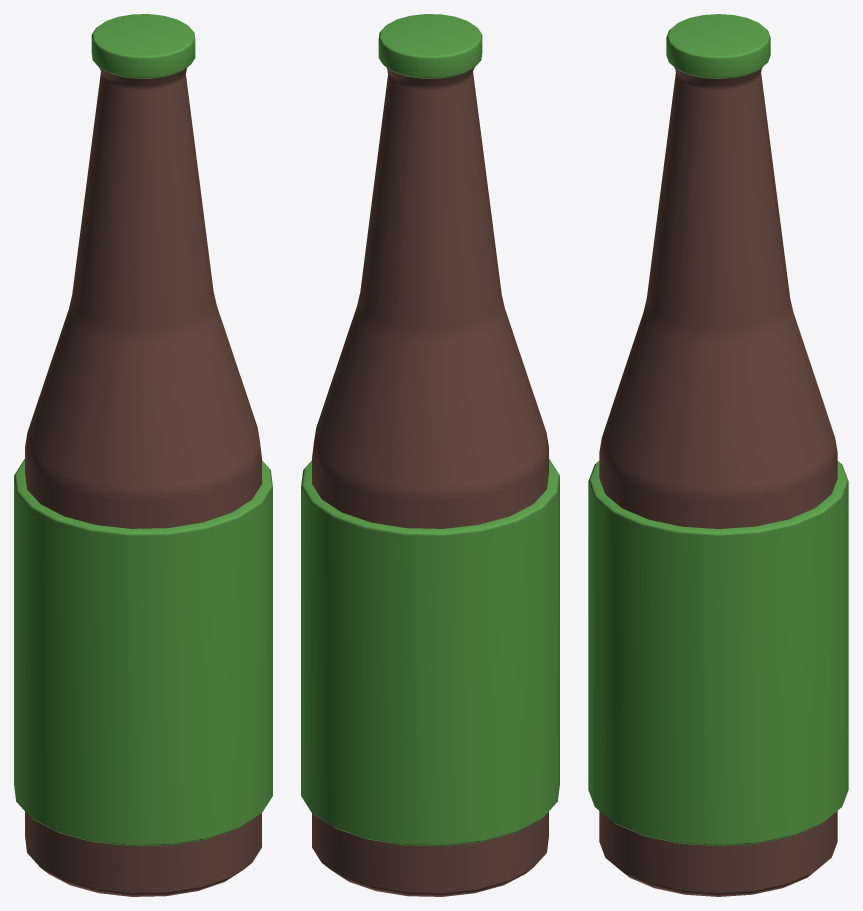
The model's file is Bottle_6.fbx.
3 renders of one model, left to right at view 1: azimuth 30°, elevation 25°; view 2: azimuth 150°, elevation 25°; view 3: azimuth 270°, elevation 25°, orthographic.
Parts seen in each view (by area): view 1: Bottle_6; view 2: Bottle_6; view 3: Bottle_6.
Boxes of the visible parts, box(x1,y1,x2,y2) form: Bottle_6: box(14, 14, 272, 896); Bottle_6: box(301, 14, 559, 896); Bottle_6: box(588, 14, 848, 896).
Size of the model in its own units: 9.44 by 32.65 by 9.44.
